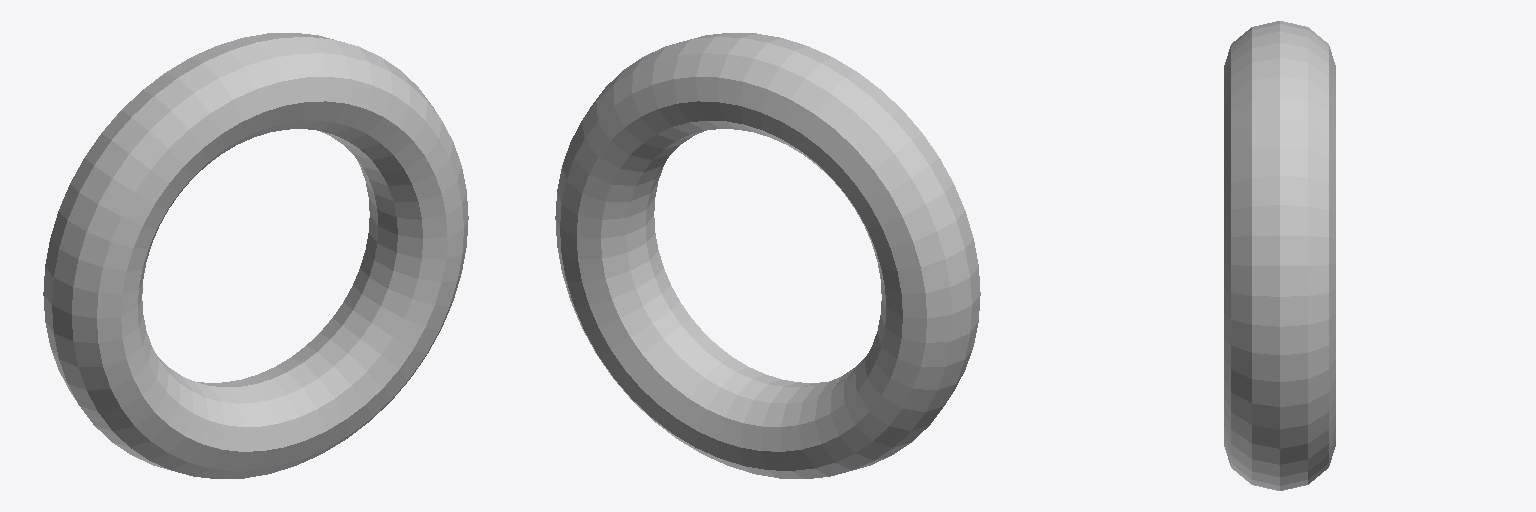
File: toy_plane_right_back_wheel.obj
The picture shows the model from 3 angles: view 1: azimuth 30°, elevation 25°; view 2: azimuth 150°, elevation 25°; view 3: azimuth 270°, elevation 25°; orthographic projection.
Visible parts, largest first — view 1: back_wheel_right_Torus.002; view 2: back_wheel_right_Torus.002; view 3: back_wheel_right_Torus.002.
Boxes of the visible parts, box(x1,y1,x2,y2) form: back_wheel_right_Torus.002: box(43, 33, 468, 478); back_wheel_right_Torus.002: box(555, 33, 980, 478); back_wheel_right_Torus.002: box(1224, 21, 1335, 490).
Size of the model in its own units: 0.375 by 0.375 by 0.0898.